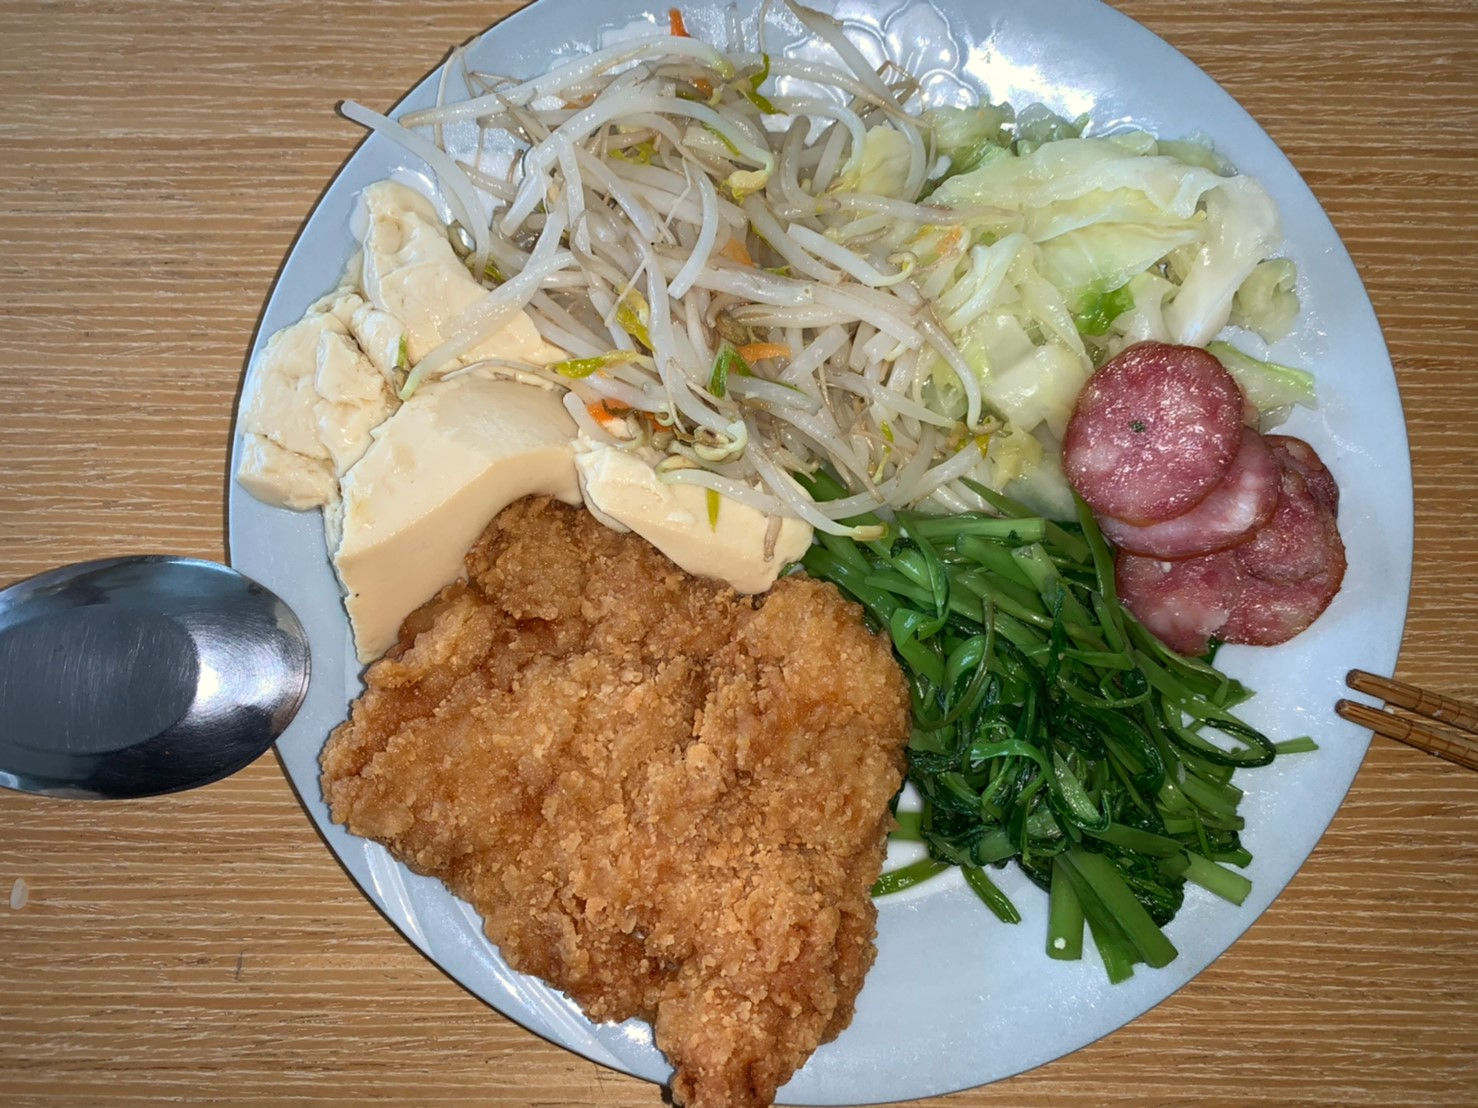chinese_cabbage: (930, 88, 1289, 362)
chinese_sausage: (1076, 355, 1359, 649)
fried_chicken: (336, 493, 917, 1077)
mung_bean_sprouts: (443, 3, 929, 432)
water_spinach: (922, 519, 1248, 965)
